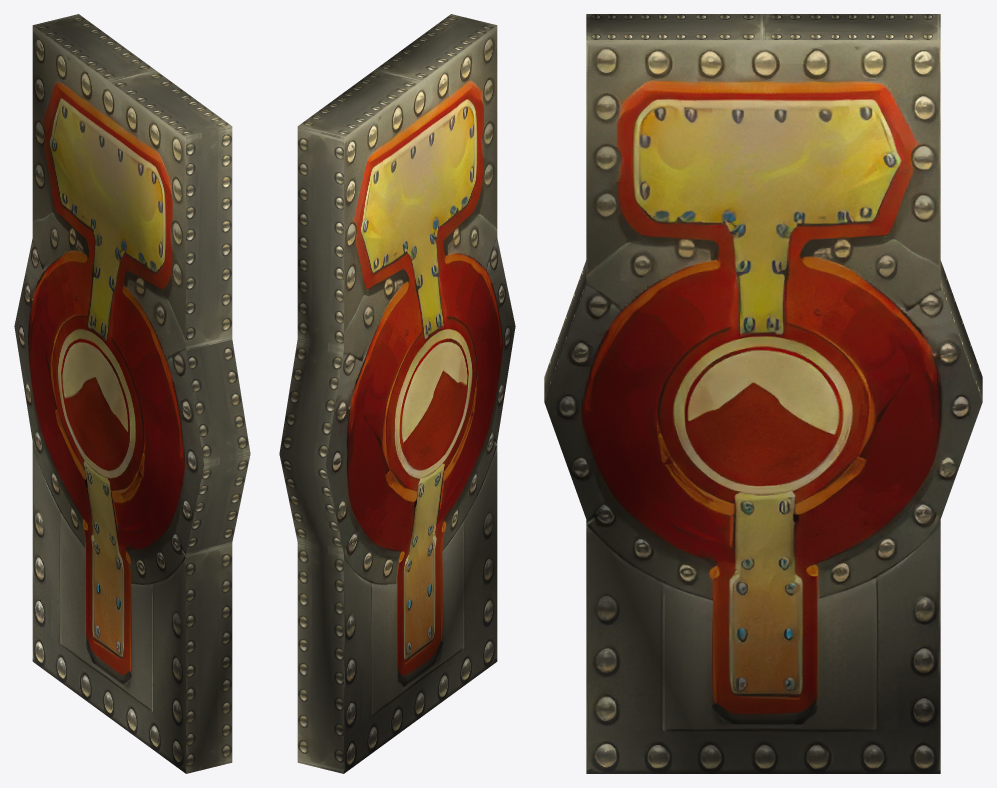
File: ironforgebanner_ornate01.obj
3 views of the same model, side by side, from view 1: azimuth 30°, elevation 25°; view 2: azimuth 150°, elevation 25°; view 3: azimuth 270°, elevation 25° (orthographic). The views are drawn at different scales.
Parts seen in each view (by area): view 1: ironforgebanner_ornate01; view 2: ironforgebanner_ornate01; view 3: ironforgebanner_ornate01.
Part boxes in pixels (left/top/right/bottom): ironforgebanner_ornate01: left=14, top=14, right=250, bottom=773; ironforgebanner_ornate01: left=279, top=14, right=515, bottom=773; ironforgebanner_ornate01: left=544, top=14, right=982, bottom=773.
Size of the model in its own units: 1.02 by 6.95 by 3.76.
1 material, 1 textured.
